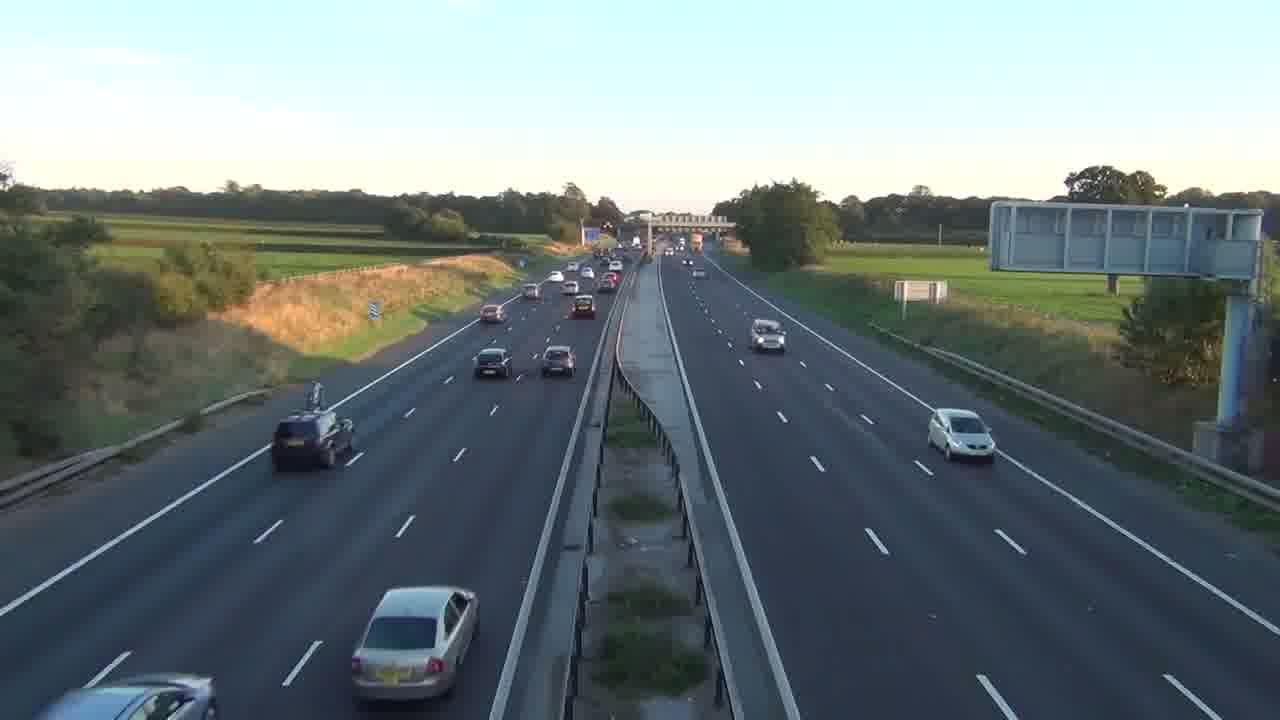car: (350, 585, 480, 704), (33, 673, 219, 720), (926, 407, 997, 463), (927, 407, 997, 463), (472, 345, 513, 379), (750, 317, 787, 353), (541, 344, 576, 378)
truck: (750, 317, 787, 353)
